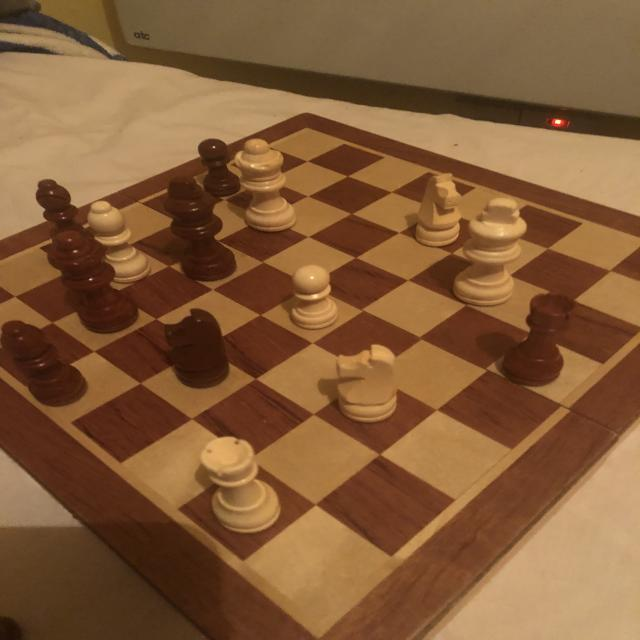black_bishop: (2, 322, 89, 409), (33, 180, 87, 230)
black_king: (162, 177, 239, 279)
black_knight: (166, 307, 227, 391)
black_pawn: (199, 140, 238, 197)
black_queen: (48, 232, 140, 335)
black_rook: (498, 292, 578, 385)
white_bishop: (89, 200, 149, 284)
white_king: (452, 197, 531, 309)
white_knight: (337, 342, 401, 420), (416, 170, 464, 248)
white_queen: (236, 140, 298, 233)
white_rook: (201, 434, 280, 535), (289, 267, 340, 329)
